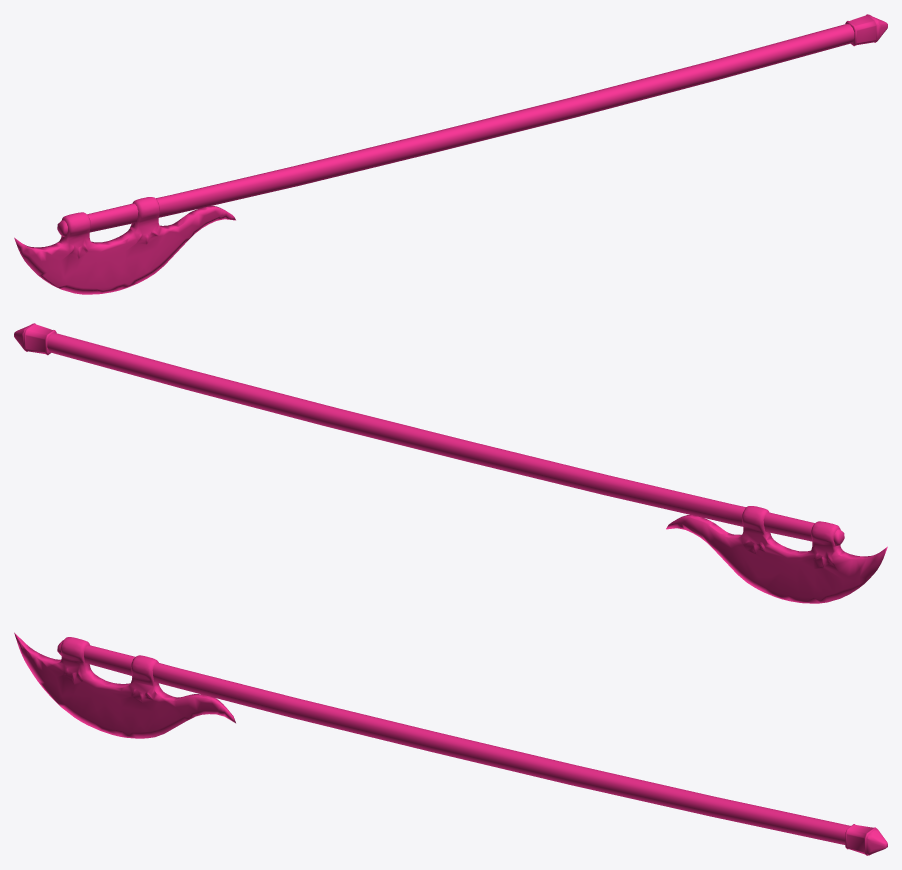
The model's file is saracen_battleaxe_long.fbx.
The picture shows the model from 3 angles, top to bottom: view 1: azimuth 30°, elevation 25°; view 2: azimuth 150°, elevation 25°; view 3: azimuth 330°, elevation 25°; orthographic projection.
Parts seen in each view (by area): view 1: saracen_battleaxe_long; view 2: saracen_battleaxe_long; view 3: saracen_battleaxe_long.
Boxes of the visible parts, x1,y1,x2,y2 form: saracen_battleaxe_long: [14, 14, 887, 294]; saracen_battleaxe_long: [14, 323, 887, 603]; saracen_battleaxe_long: [14, 632, 887, 855].
Size of the model in its own units: 136 by 13.31 by 3.25.
